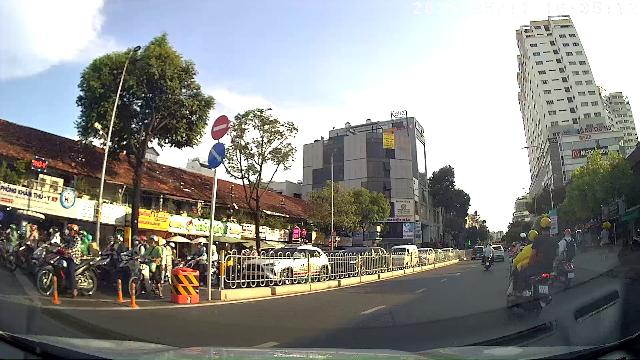102-cam-di-nguoc-chieu: (211, 115, 229, 140)
302a-huong-phai-di-vong-chuong-ngai-vat-1: (207, 142, 225, 169)
